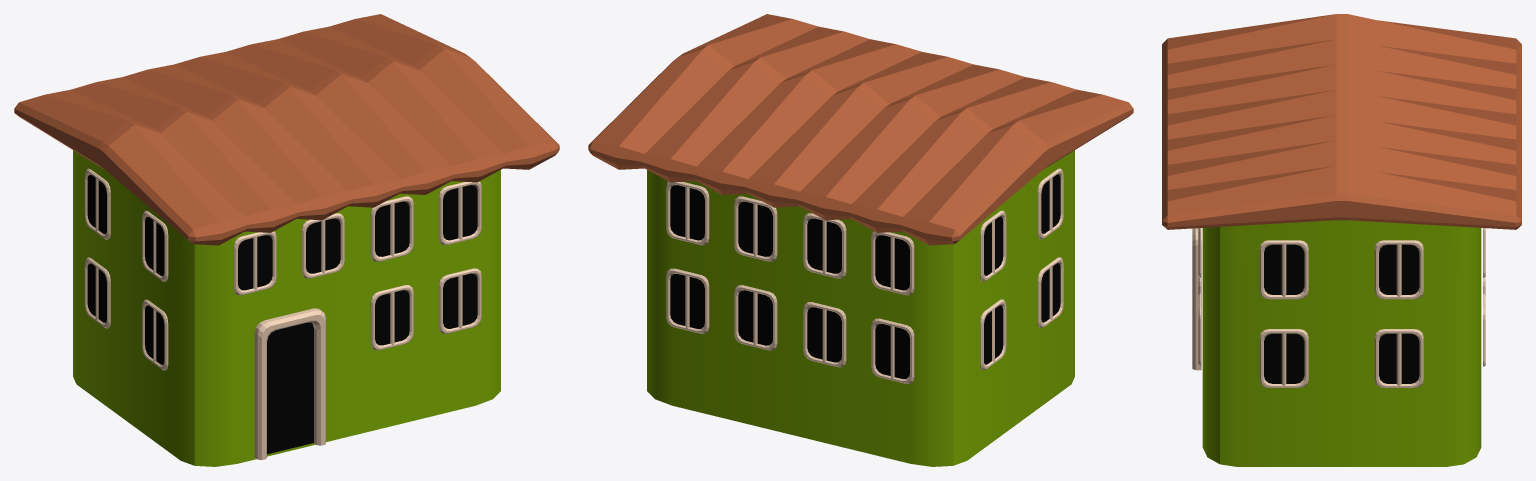
The model's file is Büyük_Brezilya_Evi.fbx.
3 views of the same model, side by side, from view 1: azimuth 30°, elevation 25°; view 2: azimuth 150°, elevation 25°; view 3: azimuth 270°, elevation 25° (orthographic).
Visible parts, largest first — view 1: Cube.014; view 2: Cube.014; view 3: Cube.014.
Boxes of the visible parts, x1,y1,x2,y2 form: Cube.014: (14,14,559,466); Cube.014: (588,14,1133,466); Cube.014: (1162,14,1521,466).
Bounding box in the file's own units: 105 × 81.13 × 88.28.
